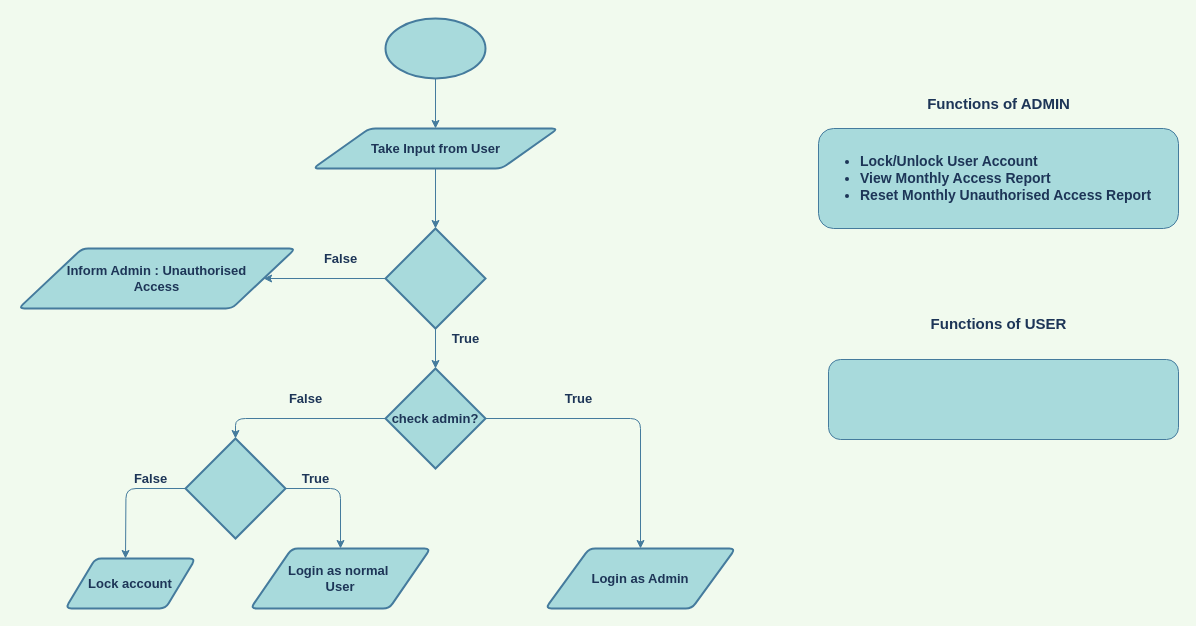
The diagram is 1196 pixels wide and 626 high, and some of its shapes have lost their labels. The shapes that lost their labels are listed below. From the top down, each one's box as (x1, y1, x2, y2) in pixels, then its label:
(384, 17, 486, 79): START
(384, 227, 486, 329): IS VALID USER ?
(828, 358, 1178, 440): View Account Balance Fund Transfer Update Account Balance
(184, 437, 286, 539): Max attempts <=3
